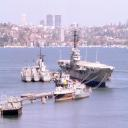Portanaves: (56, 28, 116, 90)
